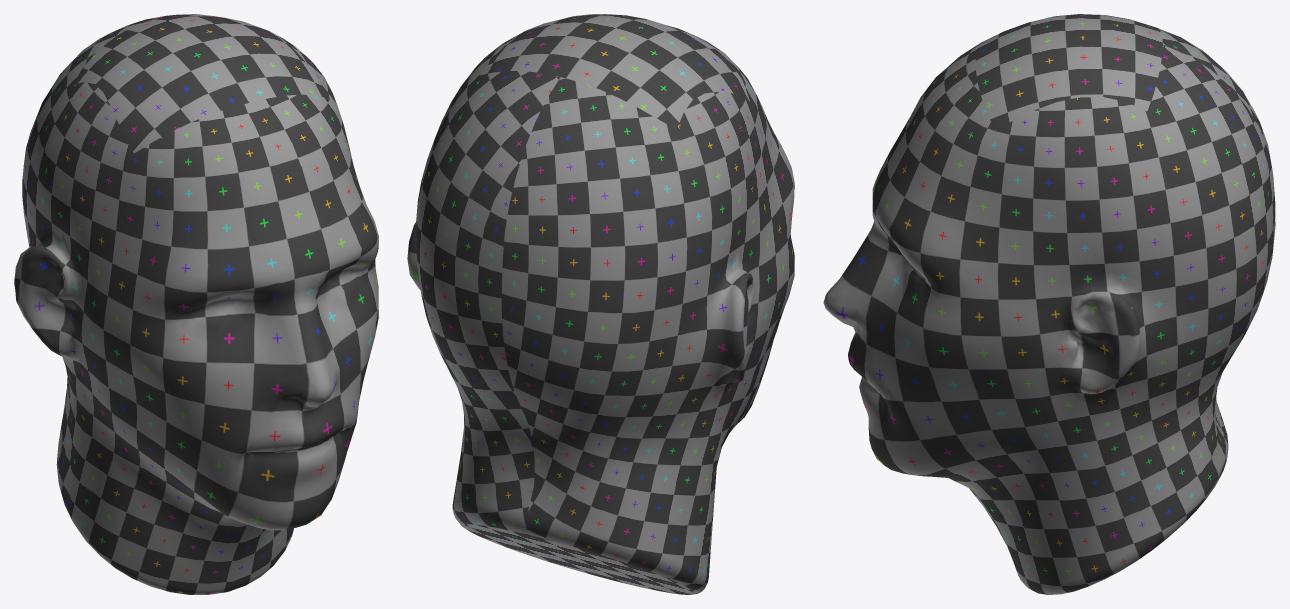
File: head.glb
3 renders of one model, left to right at view 1: azimuth 30°, elevation 25°; view 2: azimuth 150°, elevation 25°; view 3: azimuth 270°, elevation 25°, orthographic. The views are drawn at different scales.
Parts seen in each view (by area): view 1: FinalBaseMesh.005; view 2: FinalBaseMesh.005; view 3: FinalBaseMesh.005.
Boxes of the visible parts, box(x1,y1,x2,y2) form: FinalBaseMesh.005: box(14, 14, 378, 594); FinalBaseMesh.005: box(407, 14, 794, 594); FinalBaseMesh.005: box(823, 14, 1275, 594).
Bounding box in the file's own units: 2.07 × 3.36 × 2.53.
1 material, 1 textured.
